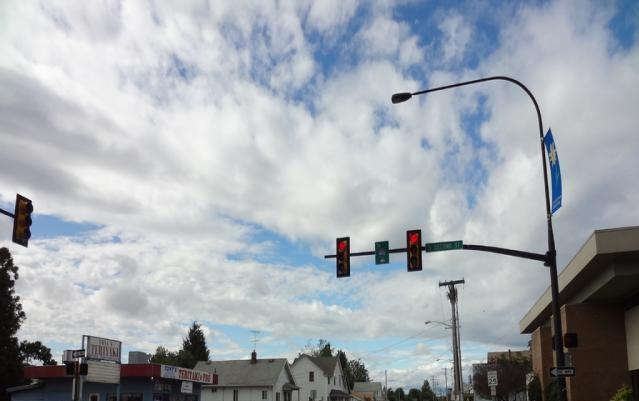red_light: (406, 229, 422, 272), (336, 236, 351, 278)
